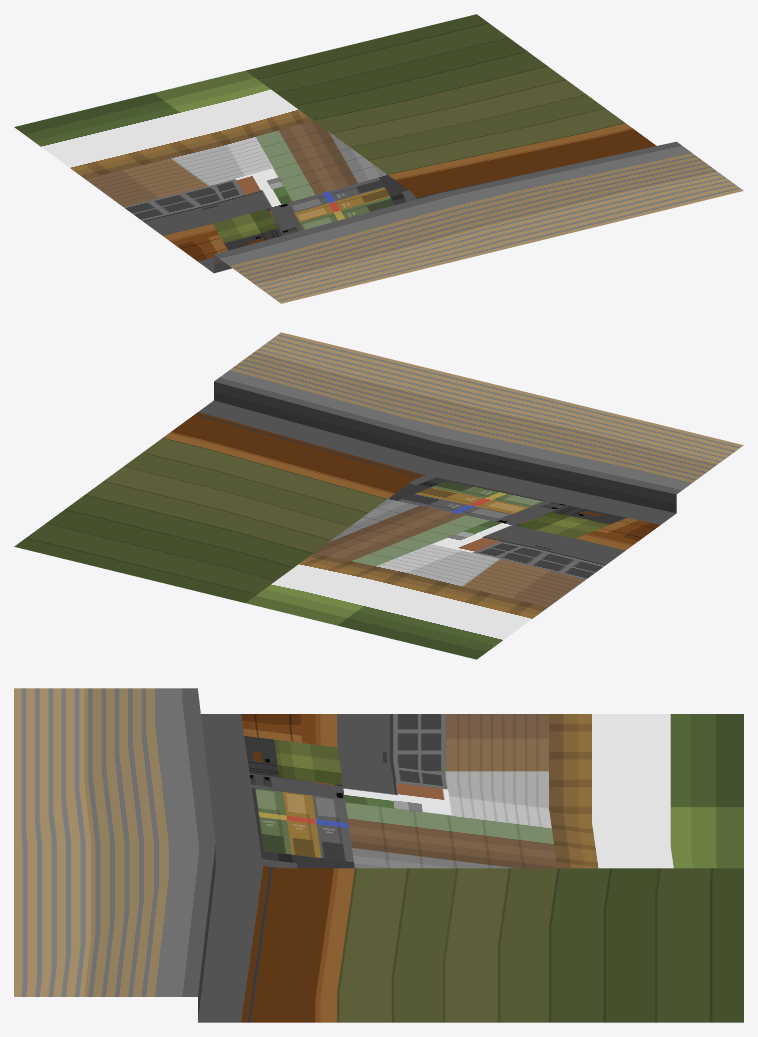
Rendered from road_Asphalt_Dirt_Transition.gltf.
3 renders of one model, top to bottom at view 1: azimuth 30°, elevation 25°; view 2: azimuth 150°, elevation 25°; view 3: azimuth 270°, elevation 25°, orthographic. The views are drawn at different scales.
Visible parts, largest first — view 1: road_Asphalt_Dirt_Transition; view 2: road_Asphalt_Dirt_Transition; view 3: road_Asphalt_Dirt_Transition.
Part boxes in pixels (box(x1,y1,x2,y2)): road_Asphalt_Dirt_Transition: box(14, 14, 743, 303); road_Asphalt_Dirt_Transition: box(14, 332, 743, 659); road_Asphalt_Dirt_Transition: box(14, 688, 743, 1022).
Size of the model in its own units: 5 by 0.1948 by 5.
Materials: 1 (1 with a texture image).
